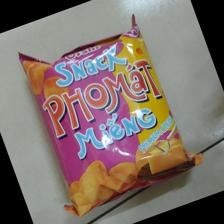Oishi_phomat: (15, 16, 206, 220)
